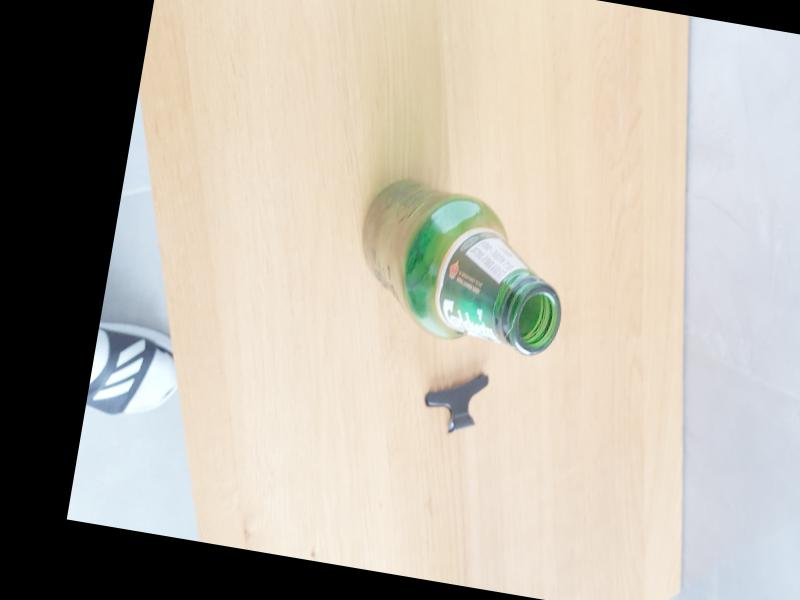Beer: (344, 172, 579, 360)
